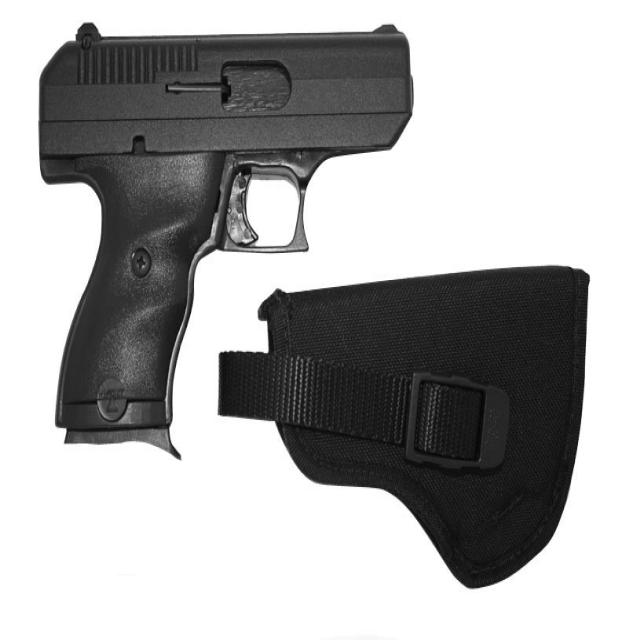Hand-Gun: (25, 12, 419, 498)
